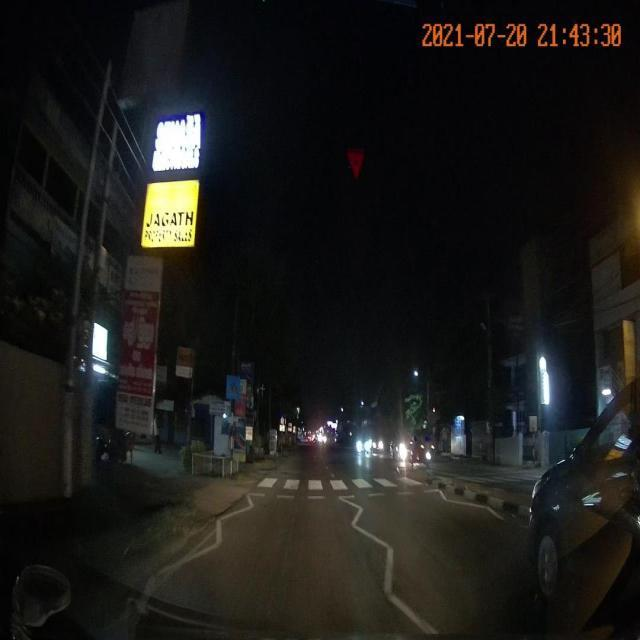Crosswalk: (244, 473, 443, 501)
